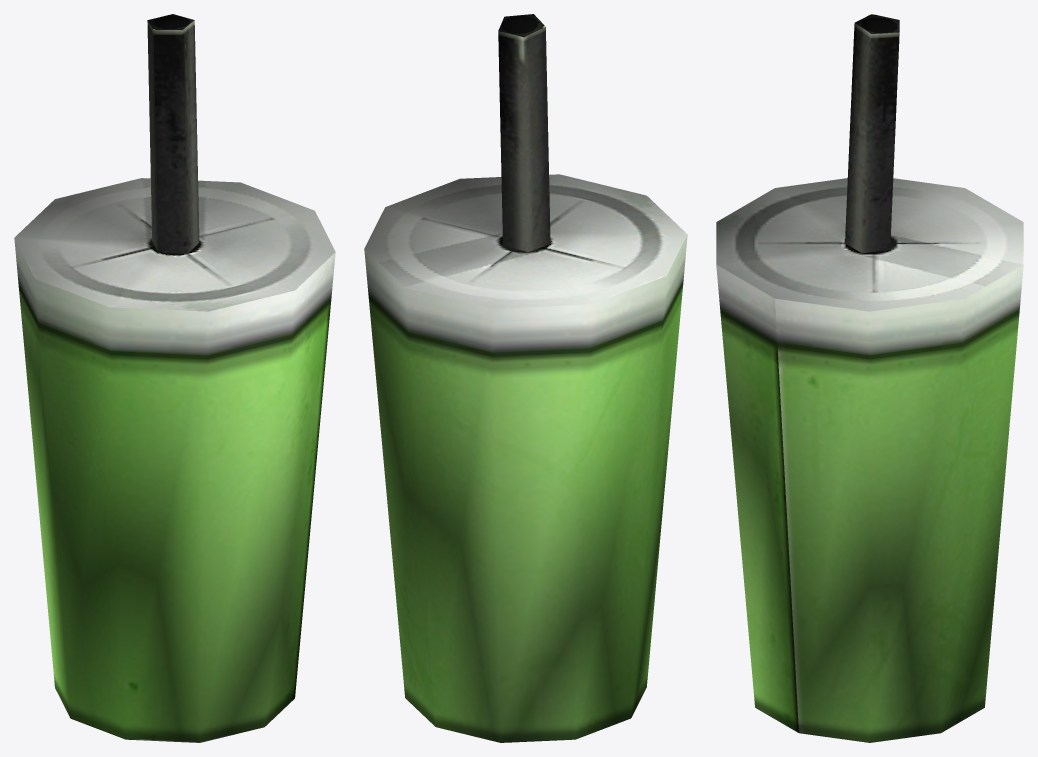
The model's file is cup.glb.
3 renders of one model, left to right at view 1: azimuth 30°, elevation 25°; view 2: azimuth 150°, elevation 25°; view 3: azimuth 270°, elevation 25°, orthographic.
Visible parts, largest first — view 1: Cylinder01; view 2: Cylinder01; view 3: Cylinder01.
Boxes of the visible parts, x1,y1,x2,y2 form: Cylinder01: (14,14,335,742); Cylinder01: (364,14,687,742); Cylinder01: (716,14,1023,742).
Bounding box in the file's own units: 7.01 × 16 × 6.66.
1 material, 1 textured.
